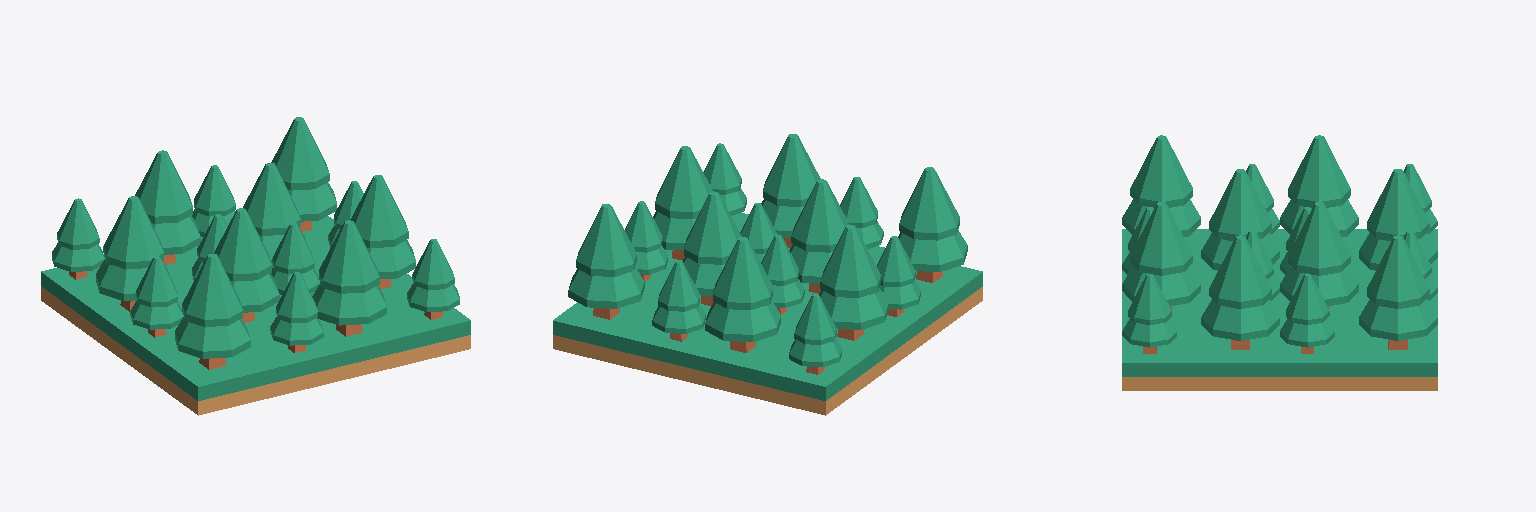
The model's file is ForrestTile.obj.
The picture shows the model from 3 angles: view 1: azimuth 30°, elevation 25°; view 2: azimuth 150°, elevation 25°; view 3: azimuth 270°, elevation 25°; orthographic projection.
Parts seen in each view (by area): view 1: tile_treeQuad; view 2: tile_treeQuad; view 3: tile_treeQuad.
Boxes of the visible parts, <box> form: tile_treeQuad: <box>41,117,470,415</box>; tile_treeQuad: <box>553,134,982,415</box>; tile_treeQuad: <box>1122,135,1437,390</box>.
Size of the model in its own units: 10 by 4.8 by 10.